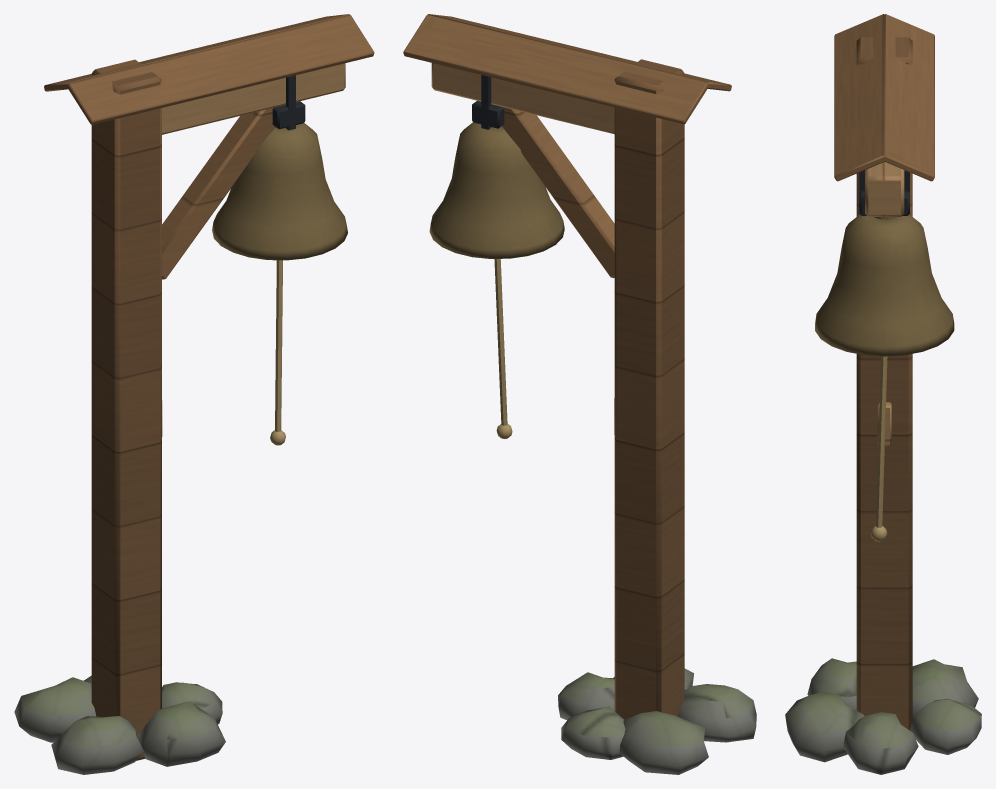
File: bell_post.glb
The picture shows the model from 3 angles, left to right: view 1: azimuth 30°, elevation 25°; view 2: azimuth 150°, elevation 25°; view 3: azimuth 270°, elevation 25°; orthographic projection. The views are drawn at different scales.
Parts seen in each view (by area): view 1: bell_post; view 2: bell_post; view 3: bell_post.
Boxes of the visible parts, <box> form: bell_post: <box>14,14,374,774</box>; bell_post: <box>403,14,756,774</box>; bell_post: <box>785,14,981,774</box>.
Size of the model in its own units: 1.33 by 2.77 by 0.7003.
7 materials, 7 textured.
